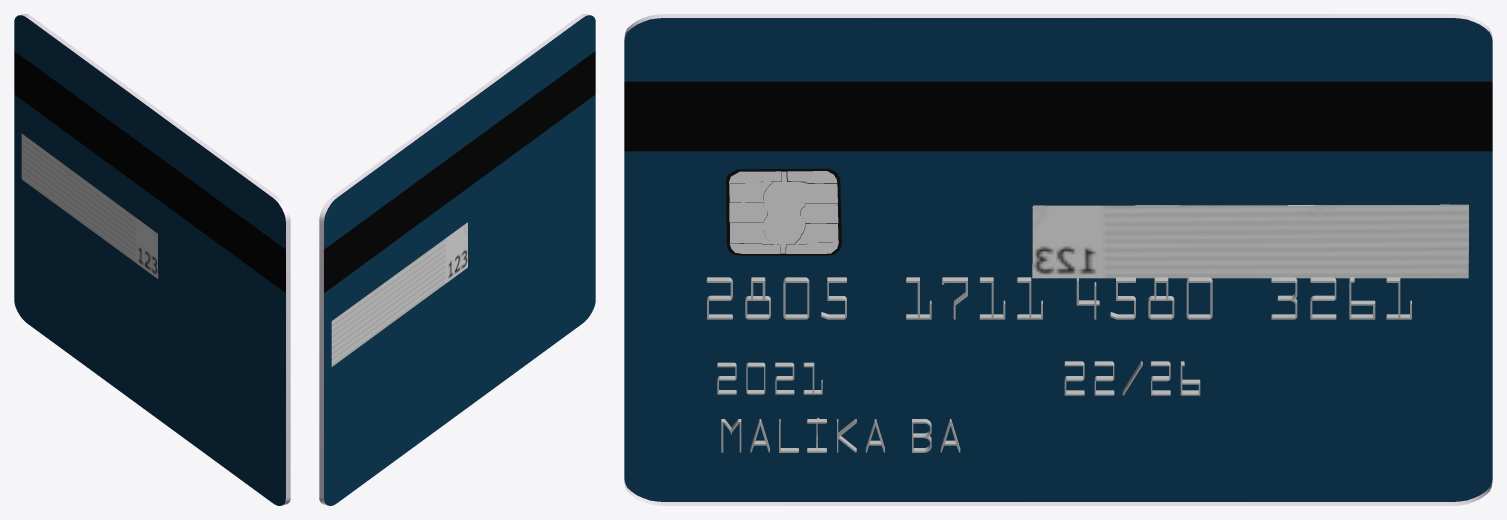
The model's file is credit.gltf.
3 renders of one model, left to right at view 1: azimuth 30°, elevation 25°; view 2: azimuth 150°, elevation 25°; view 3: azimuth 270°, elevation 25°, orthographic. The views are drawn at different scales.
Visible parts, largest first — view 1: card_4, Object_14; view 2: card_4, Object_14; view 3: card_4, Object_14, numbers/txt_3, id_2.
Boxes of the visible parts, x1,y1,x2,y2 form: card_4: (14,14,290,505); Object_14: (21,133,158,278); card_4: (319,14,595,505); Object_14: (331,222,467,366); card_4: (624,14,1492,505); Object_14: (1032,204,1468,278); numbers/txt_3: (706,277,1411,452); id_2: (726,168,841,255).
Size of the model in its own units: 0.2083 by 6.79 by 10.94.
Materials: 8 (2 with a texture image).
